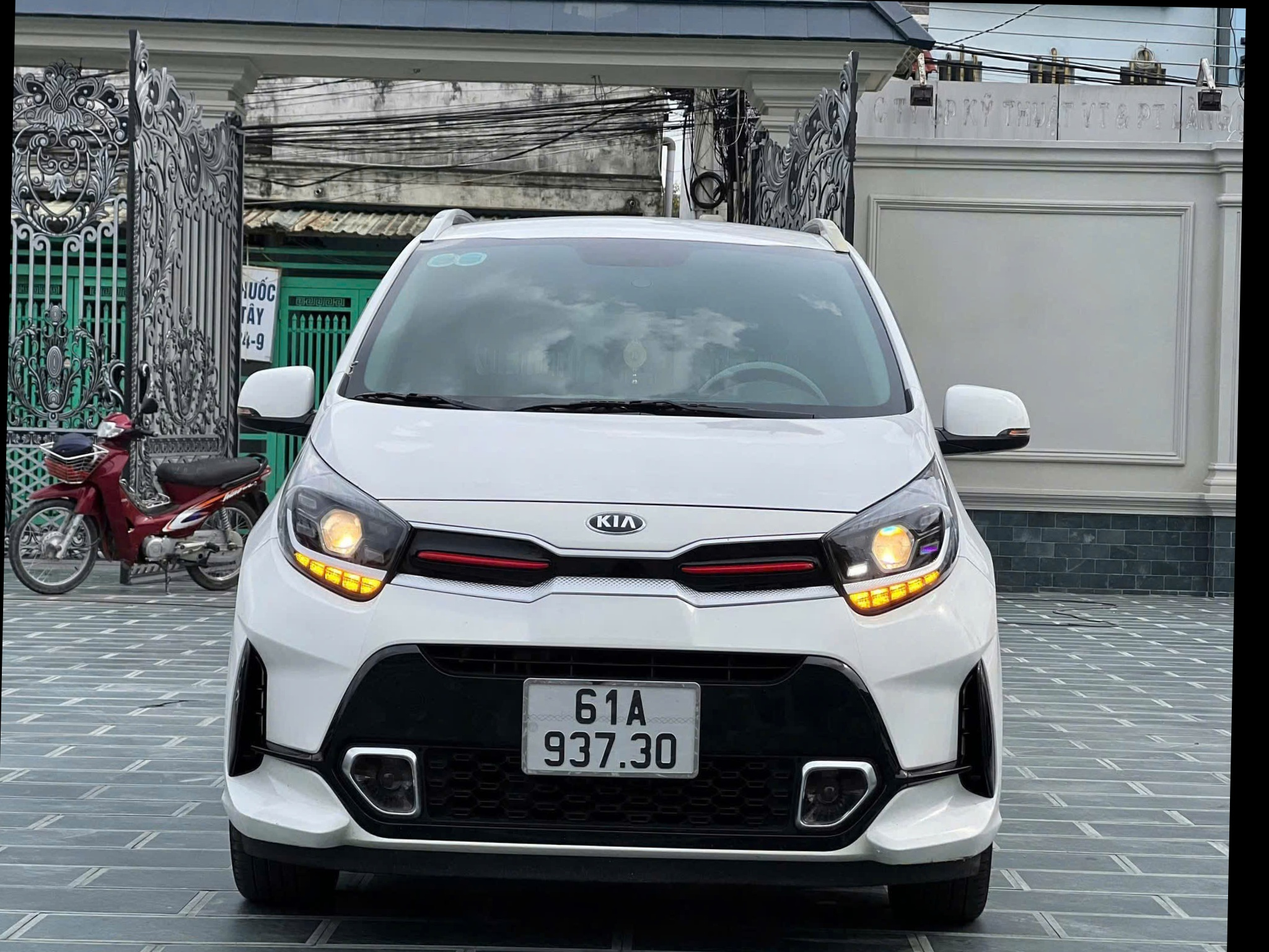Bien-so: (523, 618, 731, 731)
